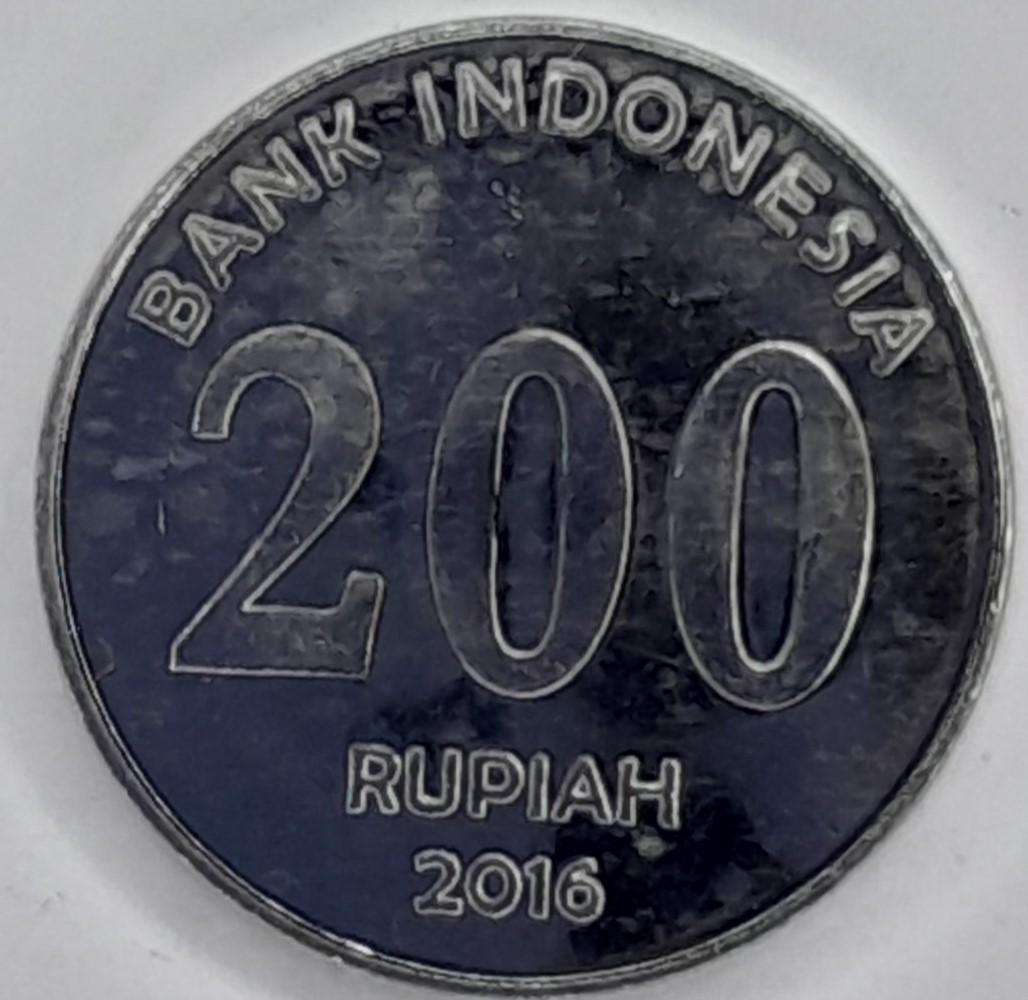coin_200_e2016: (0, 17, 1028, 1000)
